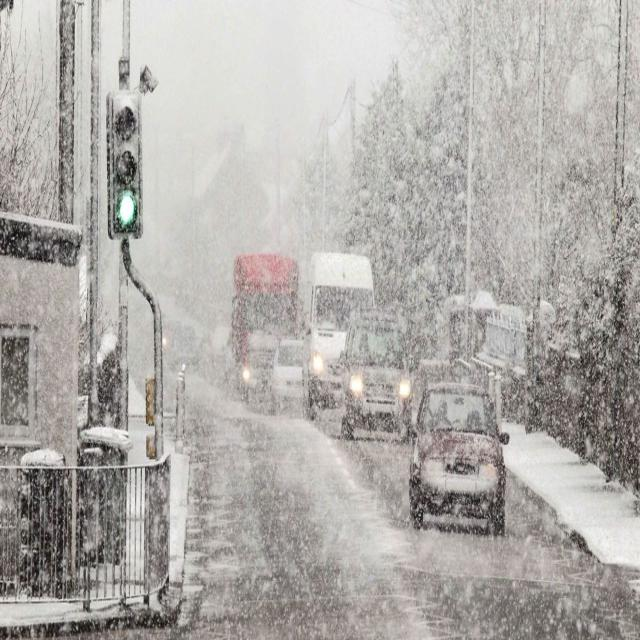bus: (232, 252, 304, 410)
car: (407, 358, 507, 548), (308, 258, 374, 409), (341, 311, 411, 436), (272, 336, 310, 410), (242, 341, 278, 409), (213, 332, 233, 388), (172, 326, 200, 366)
